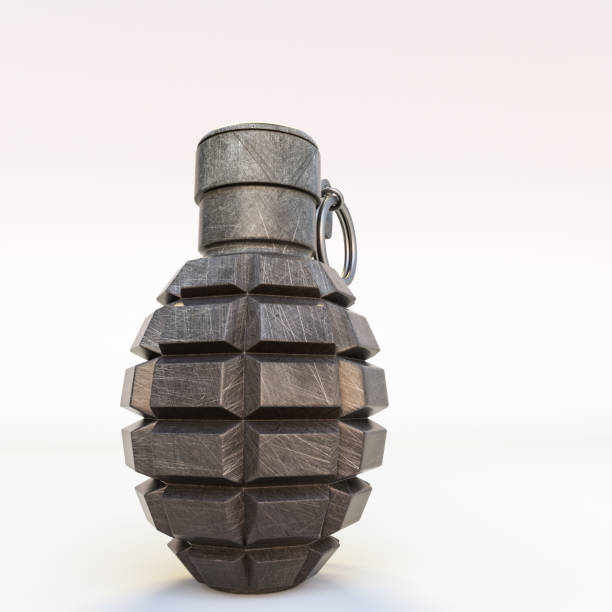e1: (115, 113, 394, 588)
